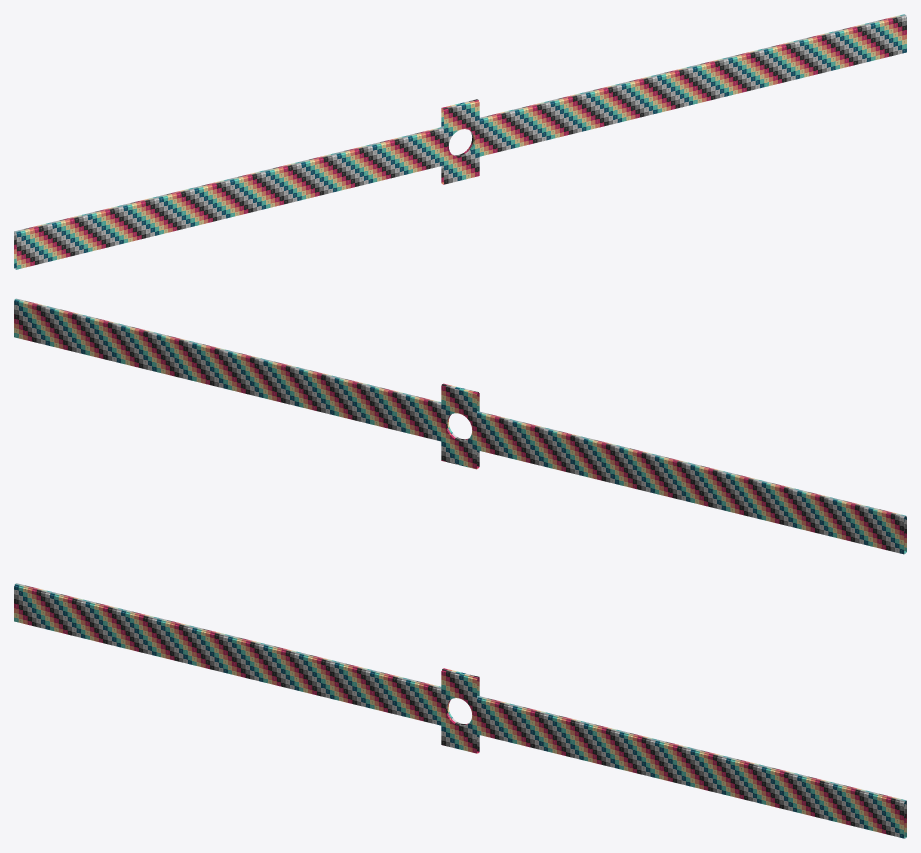
File: panelWindowRound290.glb
3 views of the same model, one above another, from view 1: azimuth 30°, elevation 25°; view 2: azimuth 150°, elevation 25°; view 3: azimuth 330°, elevation 25° (orthographic).
Visible parts, largest first — view 1: panelWindowRound290InsideMaxWidth, panelWindowRound290InsideMaxHeight, panelWindowRound290OutsideMaxWidth, panelWindowRound290Inside; view 2: panelWindowRound290OutsideMaxWidth, panelWindowRound290OutsideMaxHeight, panelWindowRound290InsideMaxWidth, panelWindowRound290Outside; view 3: panelWindowRound290InsideMaxWidth, panelWindowRound290InsideMaxHeight, panelWindowRound290OutsideMaxWidth, panelWindowRound290Inside.
Boxes of the visible parts, x1,y1,x2,y2 form: panelWindowRound290InsideMaxWidth: (15, 15, 906, 269); panelWindowRound290InsideMaxHeight: (443, 100, 479, 184); panelWindowRound290OutsideMaxWidth: (14, 14, 905, 269); panelWindowRound290Inside: (443, 122, 479, 164); panelWindowRound290OutsideMaxWidth: (14, 299, 905, 554); panelWindowRound290OutsideMaxHeight: (441, 384, 477, 469); panelWindowRound290InsideMaxWidth: (16, 298, 906, 553); panelWindowRound290Outside: (442, 407, 477, 448); panelWindowRound290InsideMaxWidth: (14, 584, 905, 838); panelWindowRound290InsideMaxHeight: (441, 669, 477, 753); panelWindowRound290OutsideMaxWidth: (15, 583, 906, 838); panelWindowRound290Inside: (441, 691, 477, 733).
Bounding box in the file's own units: 7.5 × 0.61 × 0.04.
2 materials, 2 textured.
